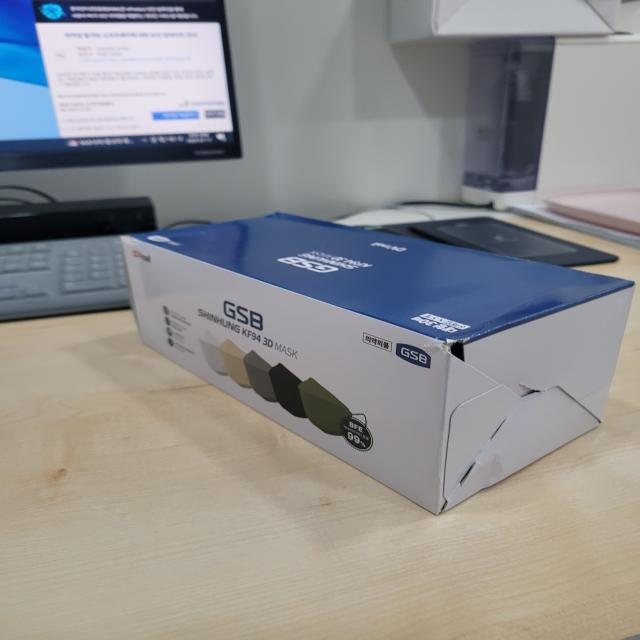mask: (81, 195, 640, 538)
